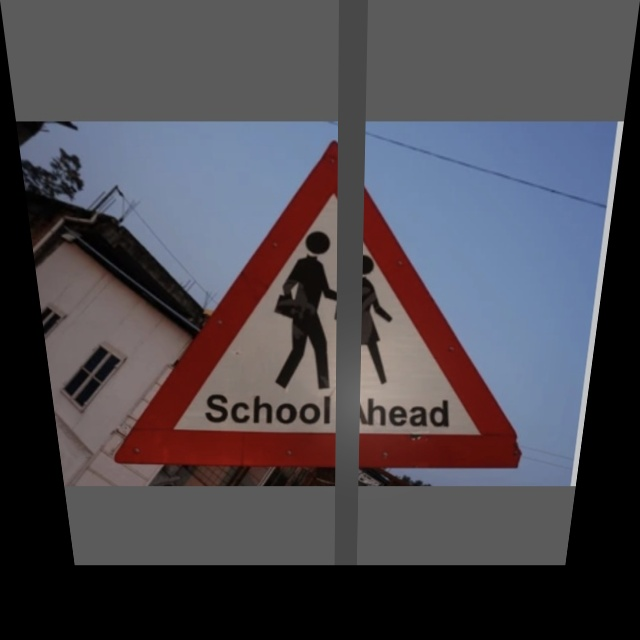School_Ahead: (133, 145, 533, 462)
